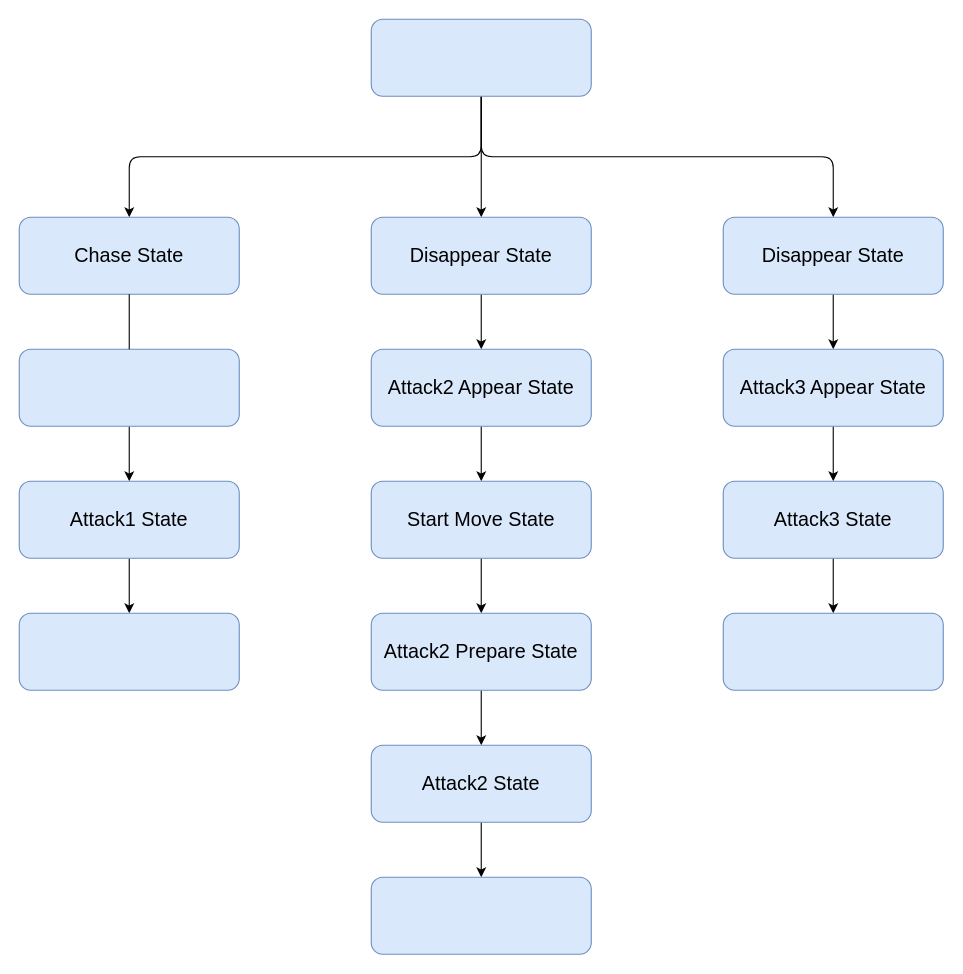
This 963x974 diagram has some shape labels left out. Here are the shapes that lost their labels. From the top down, the centre of each, then its label:
pixel 480 57: Idle State
pixel 128 387: Attack1 Stop State
pixel 128 651: Attack1 Get Up State
pixel 832 651: Attack3 Get Up State
pixel 480 915: Attack2 Stop State
